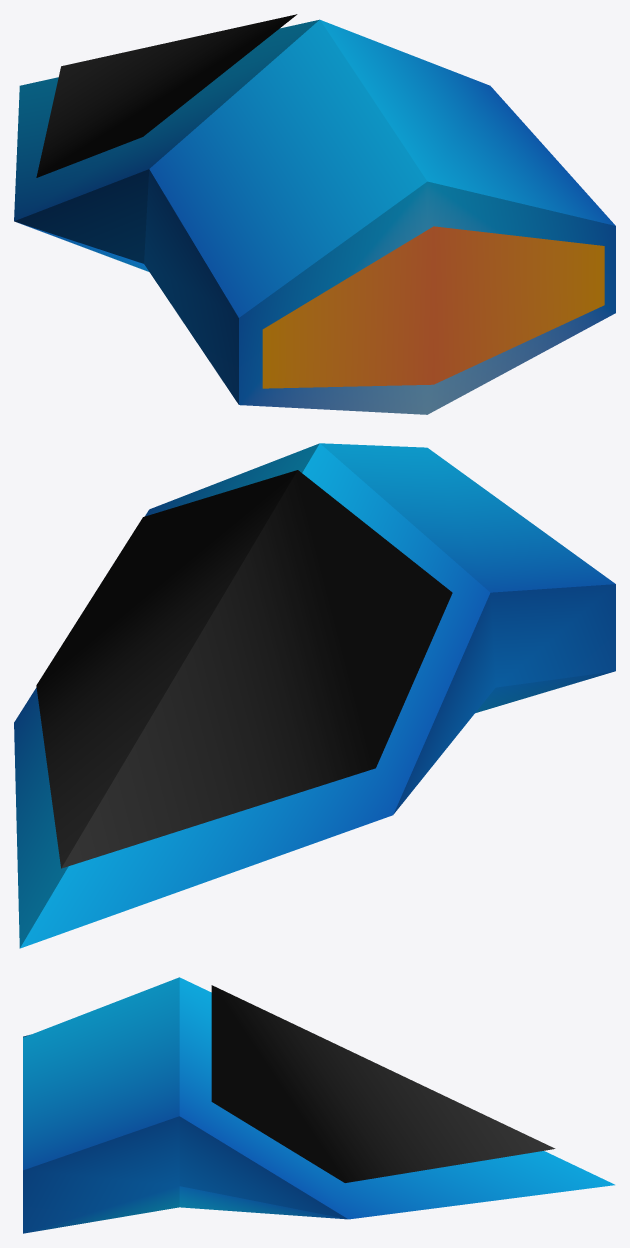
Rendered from ship1.glb.
3 views of the same model, one above another, from view 1: azimuth 30°, elevation 25°; view 2: azimuth 150°, elevation 25°; view 3: azimuth 270°, elevation 25° (orthographic). The views are drawn at different scales.
Visible parts, largest first — view 1: Cube; view 2: Cube; view 3: Cube.
Part boxes in pixels (x1,y1,x2,y2): Cube: (14,14,615,414); Cube: (14,443,615,948); Cube: (23,977,614,1233).
Bounding box in the file's own units: 1.08 × 0.8643 × 2.05.
